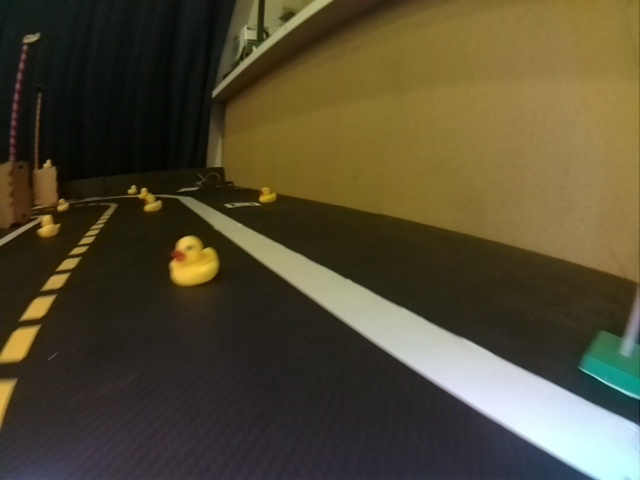Duckie: (168, 238, 215, 286), (37, 214, 59, 237), (143, 195, 162, 210), (260, 187, 276, 203), (138, 188, 149, 198), (58, 199, 67, 210), (43, 160, 52, 169), (128, 185, 137, 194)
QR code: (225, 202, 260, 209)
